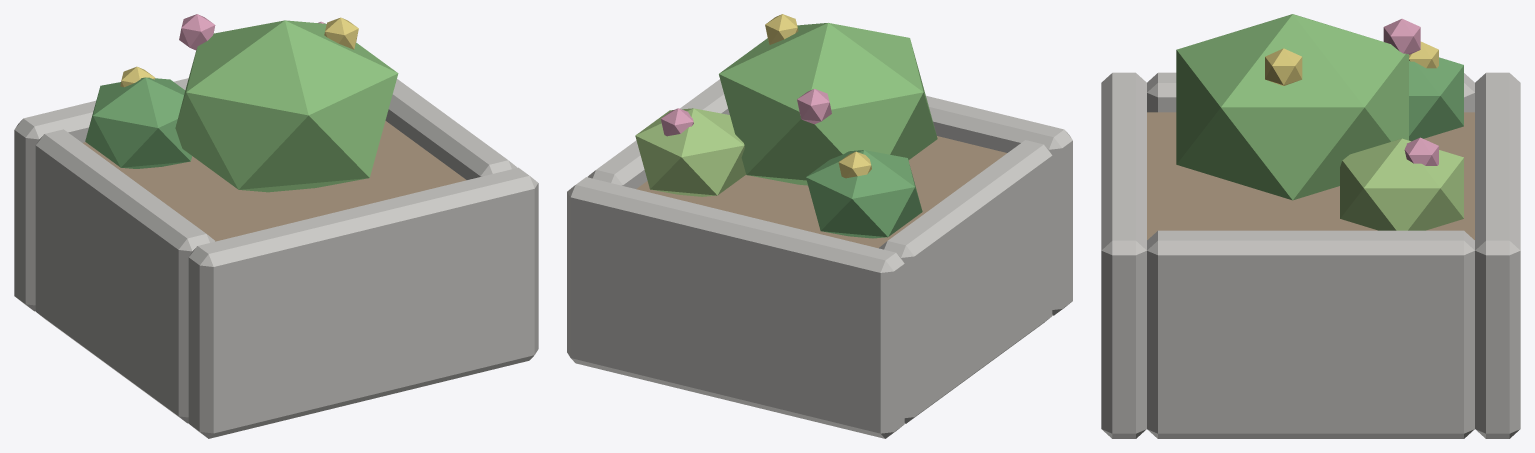
Rendered from mobiliario__vaso_planta.glb.
3 views of the same model, side by side, from view 1: azimuth 30°, elevation 25°; view 2: azimuth 150°, elevation 25°; view 3: azimuth 270°, elevation 25° (orthographic). The views are drawn at different scales.
Visible parts, largest first — view 1: mobiliario__vaso_planta; view 2: mobiliario__vaso_planta; view 3: mobiliario__vaso_planta.
Boxes of the visible parts, x1,y1,x2,y2 form: mobiliario__vaso_planta: (14,14,538,438); mobiliario__vaso_planta: (567,14,1072,438); mobiliario__vaso_planta: (1101,14,1520,438).
Bounding box in the file's own units: 0.46 × 0.4125 × 0.46.
